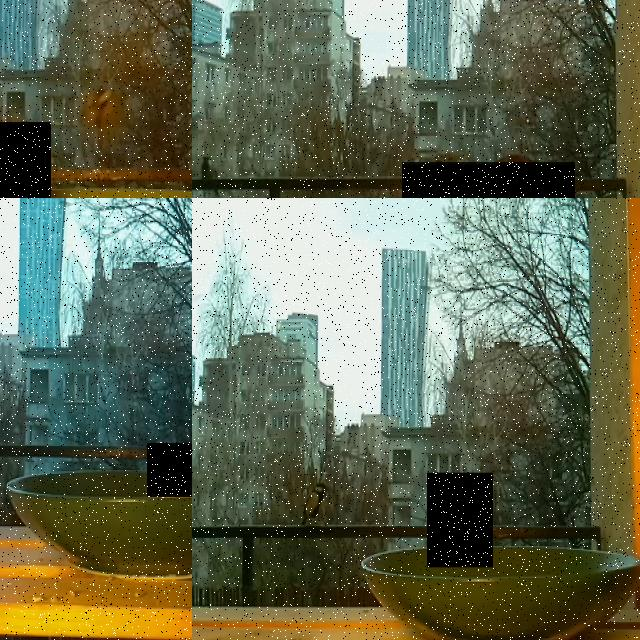Bogatka: (402, 162, 575, 198)
Modraszka: (427, 473, 493, 567), (147, 443, 192, 496)
Wrobel: (0, 122, 51, 198)
